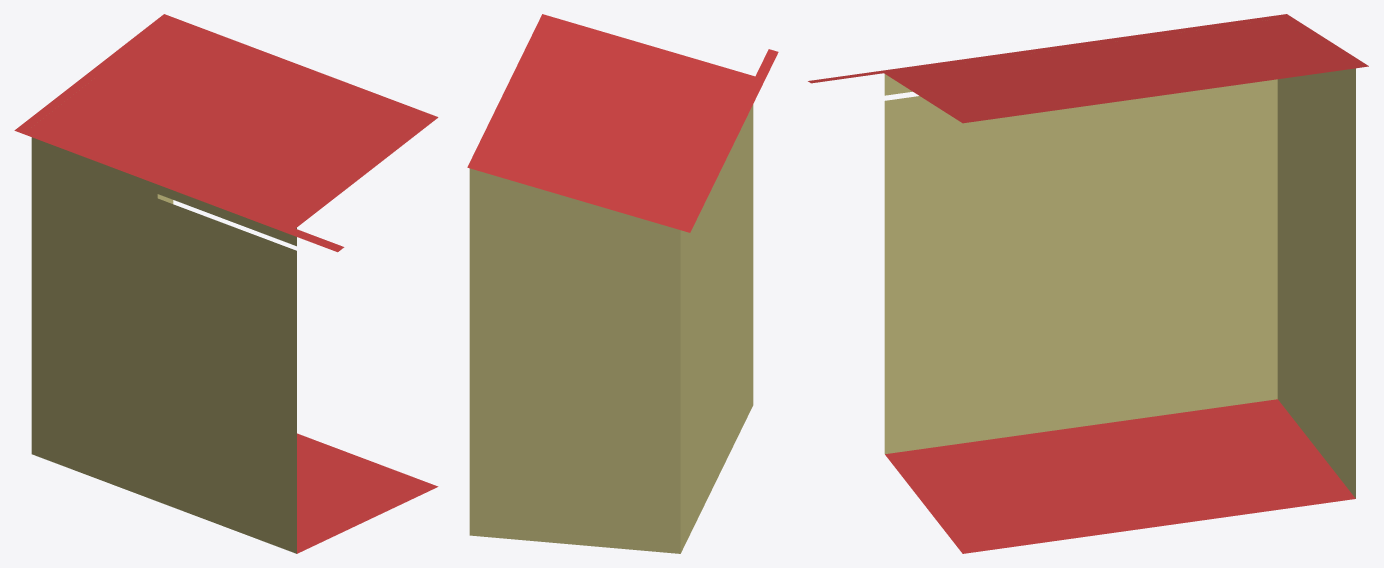
The picture shows the model from 3 angles, left to right: view 1: azimuth 30°, elevation 25°; view 2: azimuth 150°, elevation 25°; view 3: azimuth 270°, elevation 25°; orthographic projection. The views are drawn at different scales.
Bounding box in the file's own units: 6.73 × 9.84 × 8.32.
